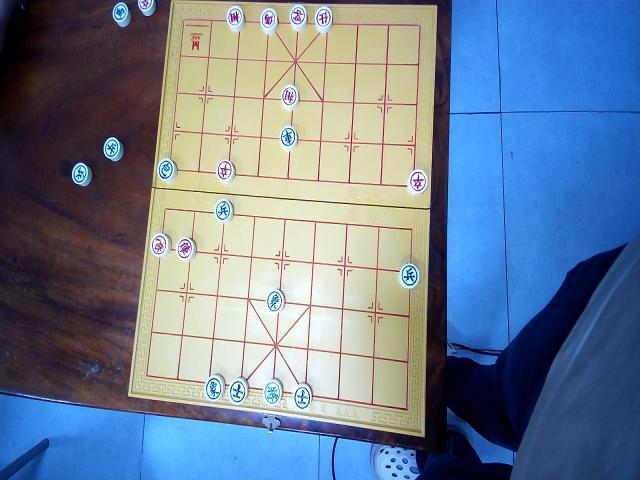piece: (204, 374, 224, 402), (262, 378, 282, 406), (399, 261, 419, 289), (228, 377, 248, 404), (407, 168, 427, 195), (150, 232, 170, 258), (157, 157, 177, 183), (293, 383, 312, 410), (314, 6, 332, 34), (260, 6, 278, 34), (174, 235, 194, 260), (280, 84, 299, 110), (111, 1, 130, 27), (289, 4, 307, 31), (226, 5, 244, 32), (216, 158, 234, 183), (214, 197, 232, 222), (266, 287, 284, 312), (279, 125, 297, 150), (137, 0, 155, 16)
